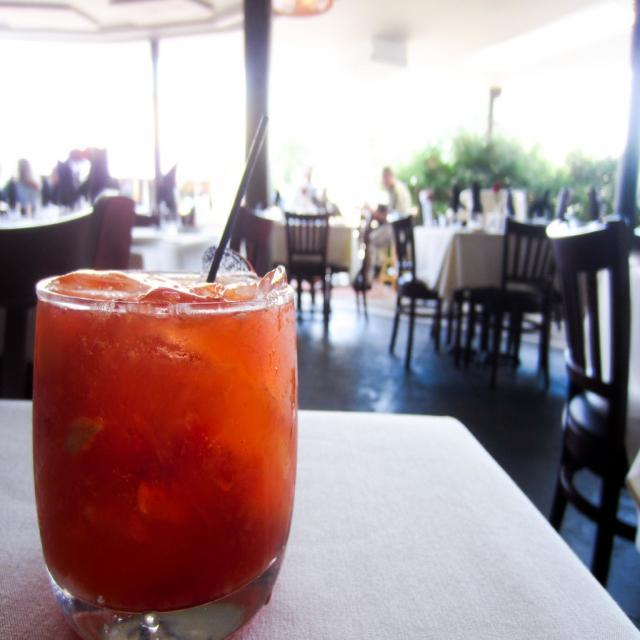Juice: (26, 259, 301, 623)
